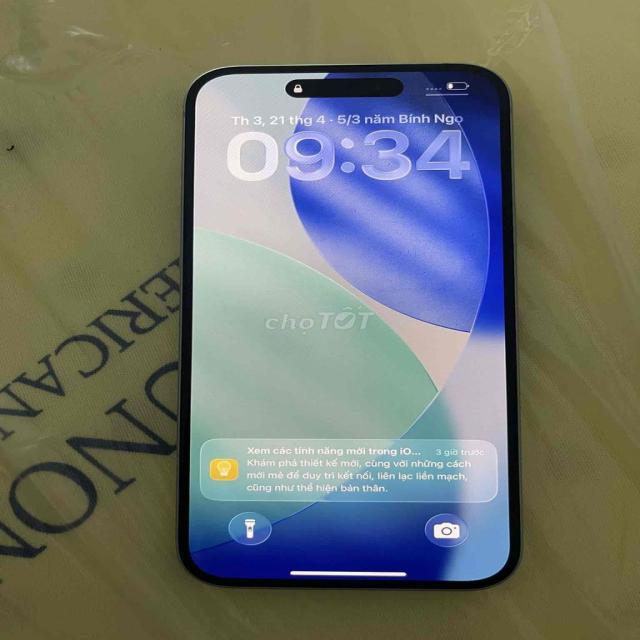gen_15: (165, 48, 523, 619)
